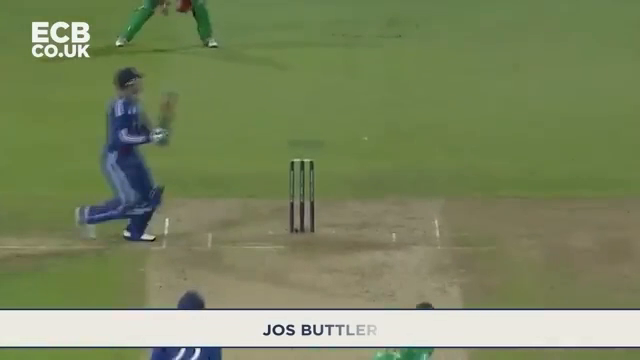batsman: (68, 65, 172, 248)
